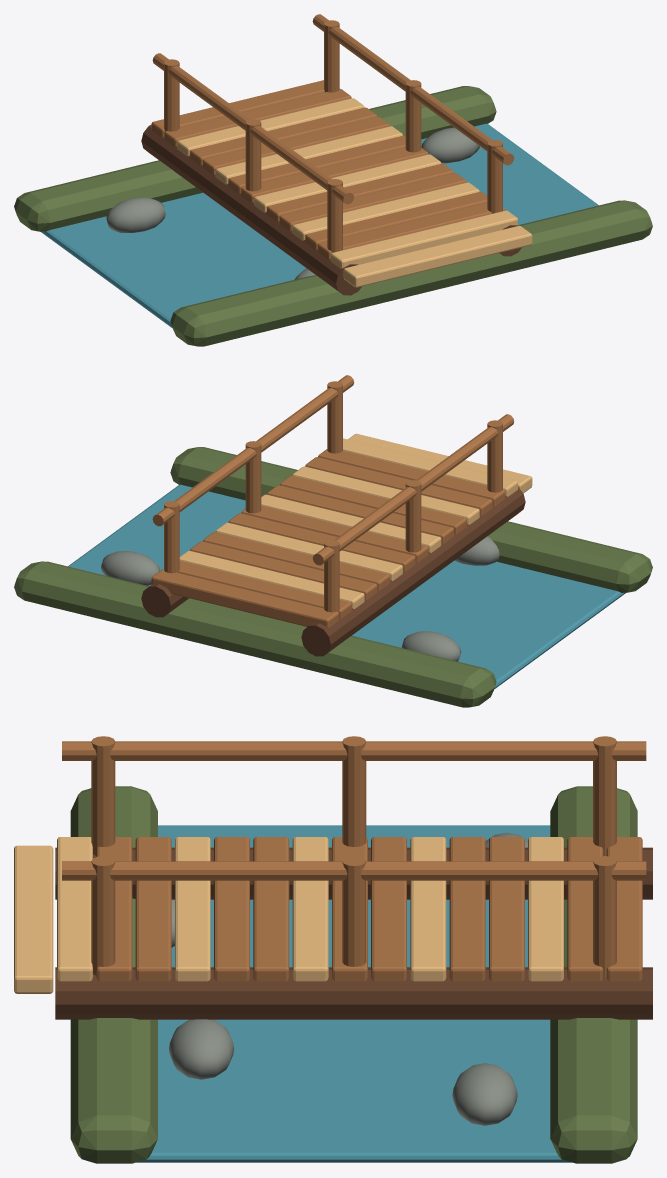
File: footbridge.glb
The picture shows the model from 3 angles, top to bottom: view 1: azimuth 30°, elevation 25°; view 2: azimuth 150°, elevation 25°; view 3: azimuth 270°, elevation 25°; orthographic projection. The views are drawn at different scales.
Visible parts, largest first — view 1: Stream, Mossy bank, Mossy bank.001, Support beam, Final small-paw approach plank, Repaired deck plank, Handrail.001, Handrail, Repaired deck plank.003, Repaired deck plank.002, Repaired deck plank.006, Repaired deck plank.004 (+18 smaller); view 2: Stream, Mossy bank.001, Mossy bank, Support beam, Repaired deck plank.014, Handrail.001, Handrail, Repaired deck plank.011, Repaired deck plank.012, Repaired deck plank.008, Repaired deck plank.002, Repaired deck plank.009 (+20 smaller); view 3: Stream, Support beam.001, Mossy bank, Mossy bank.001, Handrail.001, Handrail, Final small-paw approach plank, Repaired deck plank.002, Repaired deck plank.005, Repaired deck plank.006, Repaired deck plank.009, Repaired deck plank.010 (+19 smaller).
Boxes of the visible parts, box(x1,y1,x2,y2) form: Stream: box(41, 123, 598, 327); Mossy bank: box(170, 200, 652, 346); Mossy bank.001: box(14, 86, 496, 231); Support beam: box(141, 124, 361, 295); Final small-paw approach plank: box(343, 225, 532, 287); Repaired deck plank: box(330, 210, 517, 268); Handrail.001: box(312, 14, 514, 165); Handrail: box(152, 53, 354, 204); Repaired deck plank.003: box(292, 182, 479, 240); Repaired deck plank.002: box(305, 192, 487, 249); Repaired deck plank.006: box(254, 154, 441, 212); Repaired deck plank.004: box(279, 173, 466, 231); Stream: box(68, 484, 625, 688); Mossy bank.001: box(14, 561, 496, 707); Mossy bank: box(170, 447, 652, 592); Support beam: box(301, 487, 525, 656); Repaired deck plank.014: box(151, 569, 338, 627); Handrail.001: box(152, 375, 354, 526); Handrail: box(312, 414, 514, 565); Repaired deck plank.011: box(190, 541, 377, 599); Repaired deck plank.012: box(179, 550, 364, 608); Repaired deck plank.008: box(228, 513, 415, 571); Repaired deck plank.002: box(305, 457, 492, 515); Repaired deck plank.009: box(215, 522, 402, 580); Stream: box(136, 825, 571, 1162); Support beam.001: box(55, 967, 652, 1019); Mossy bank: box(70, 786, 157, 1163); Mossy bank.001: box(550, 786, 637, 1163); Handrail.001: box(62, 861, 646, 880); Handrail: box(62, 741, 646, 760); Final small-paw approach plank: box(14, 845, 53, 993); Repaired deck plank.002: box(135, 837, 171, 981); Repaired deck plank.005: box(253, 837, 289, 981); Repaired deck plank.006: box(292, 837, 328, 981); Repaired deck plank.009: box(410, 837, 446, 981); Repaired deck plank.010: box(449, 837, 485, 981).
Size of the model in its own units: 3.8 by 1 by 2.93.
